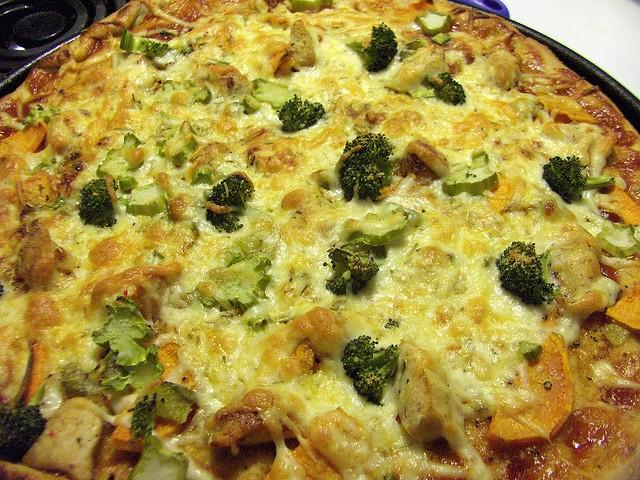broccoli: (91, 297, 160, 366), (1, 374, 52, 464), (198, 256, 272, 314), (495, 241, 561, 305), (126, 382, 194, 444), (340, 334, 400, 404), (339, 134, 394, 202), (542, 154, 616, 204), (442, 148, 497, 194), (326, 248, 378, 295), (345, 26, 398, 72), (406, 72, 466, 106), (276, 94, 326, 133), (78, 178, 117, 228), (120, 27, 170, 60), (206, 174, 252, 208), (414, 8, 452, 36), (206, 209, 244, 233), (23, 104, 61, 126), (341, 242, 386, 259), (188, 85, 212, 106)
